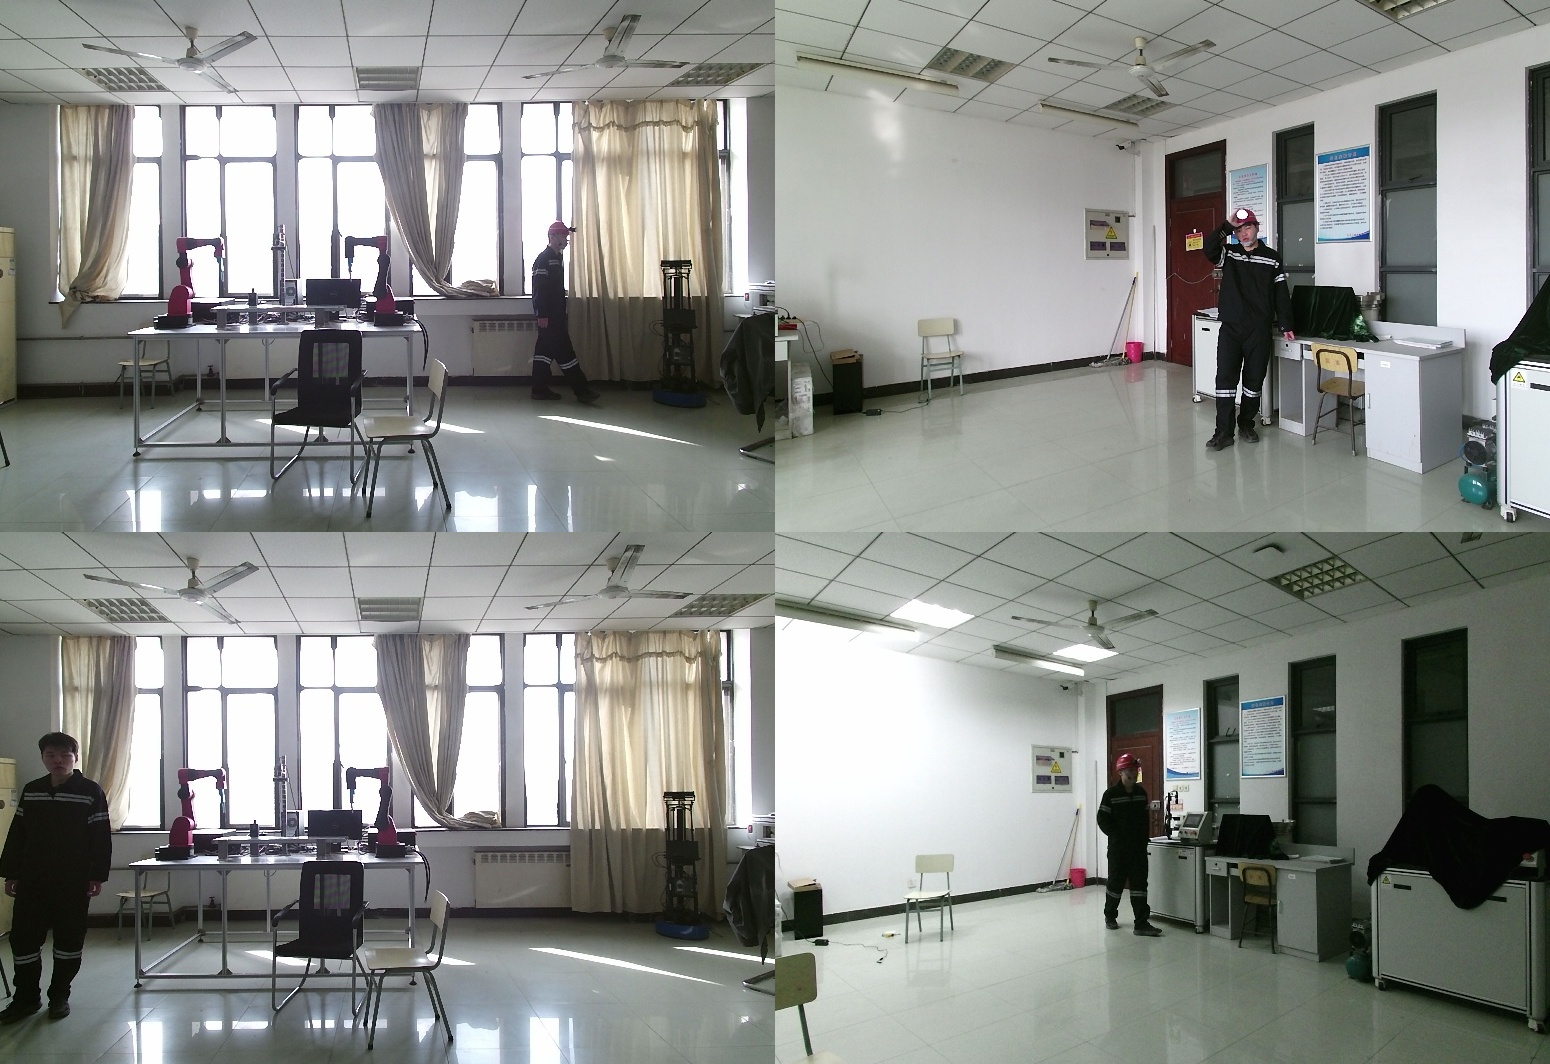person: (3, 732, 118, 1019), (1207, 209, 1303, 447), (1085, 757, 1165, 941), (534, 224, 602, 412)
